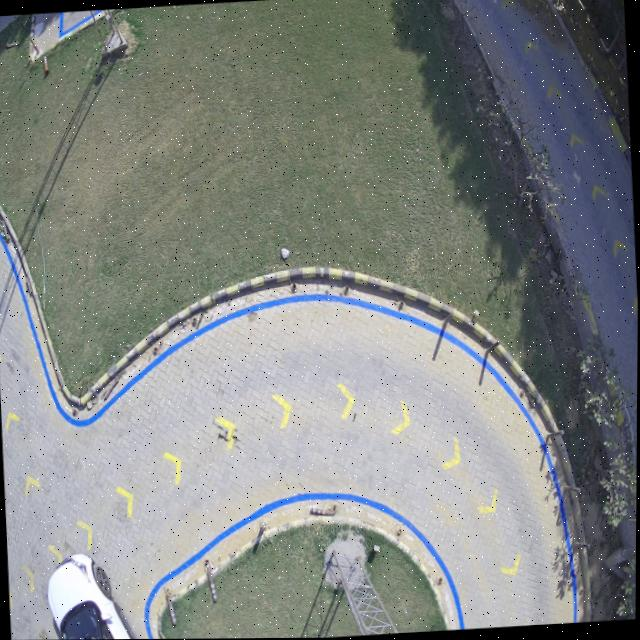car: (48, 554, 135, 640)
